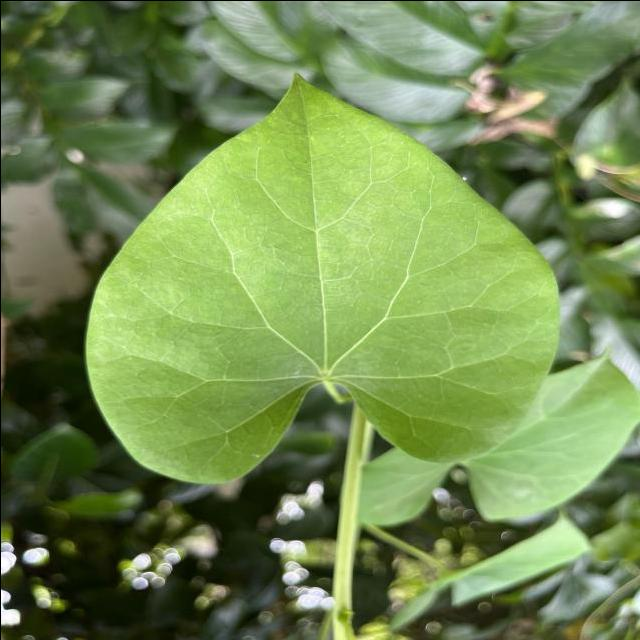Tinospora cordifolia: (79, 64, 570, 494)
